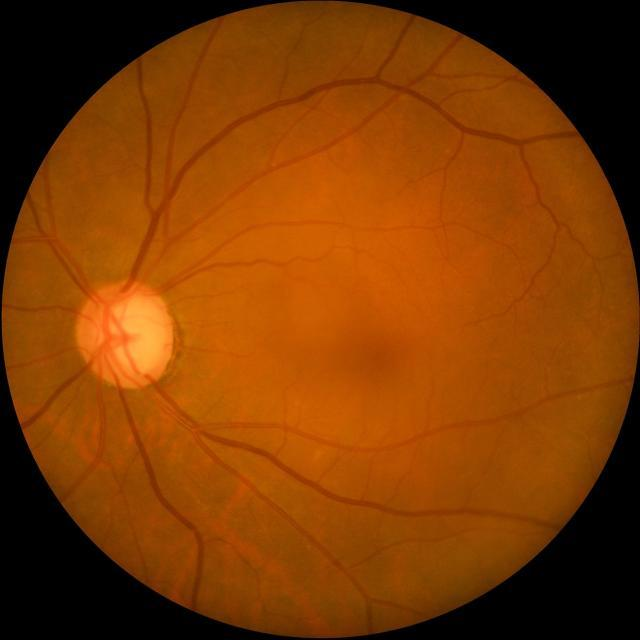OC: (105, 298, 162, 374)
OD: (76, 280, 174, 389)
